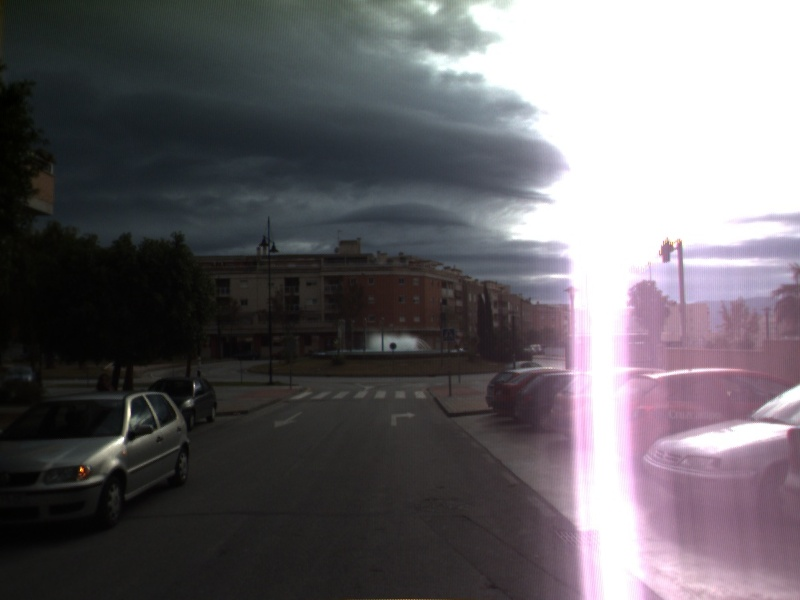RIGHT: (388, 409, 418, 428)
